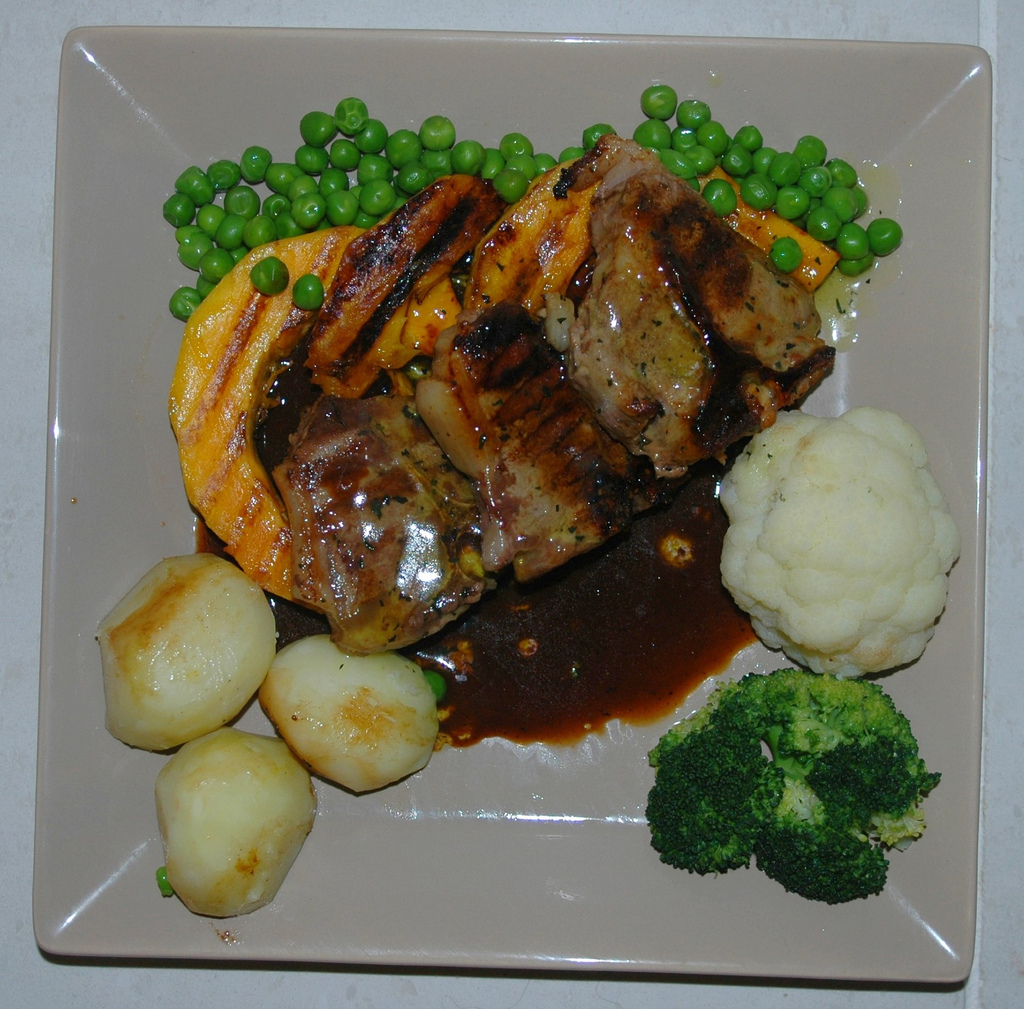boiled peas: (167, 91, 911, 265)
boiled potatoes: (87, 551, 288, 753), (142, 722, 325, 930), (250, 616, 460, 795)
